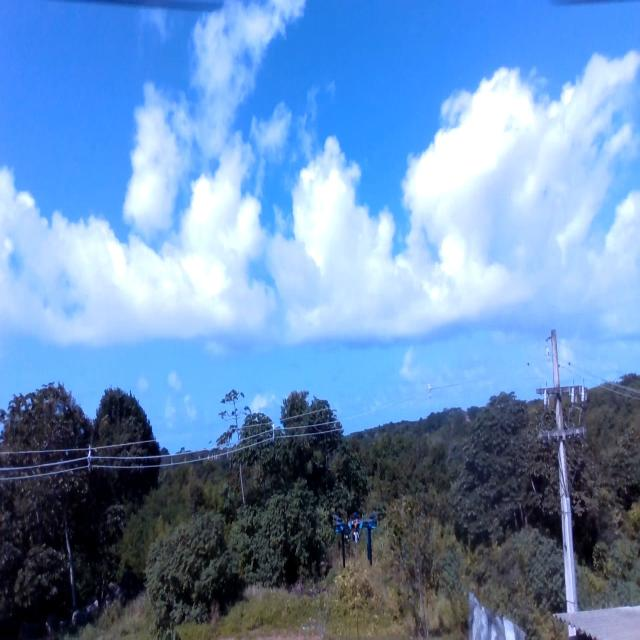-uav-: (324, 498, 386, 575)
